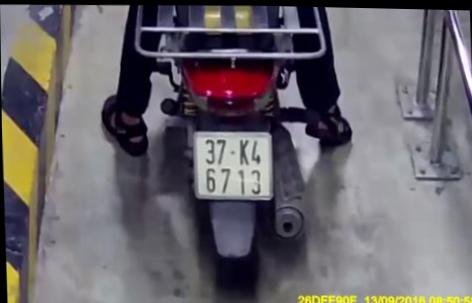LP: (189, 126, 275, 202)
